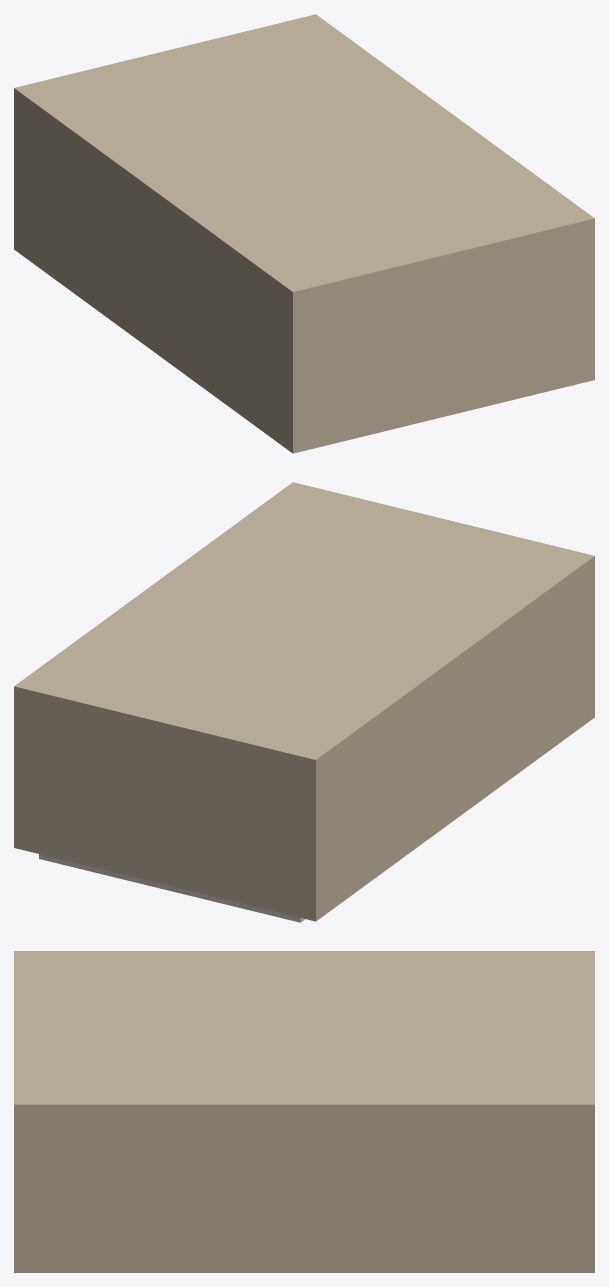
File: drawer_cabinet.glb
3 views of the same model, one above another, from view 1: azimuth 30°, elevation 25°; view 2: azimuth 150°, elevation 25°; view 3: azimuth 270°, elevation 25° (orthographic). The views are drawn at different scales.
Visible parts, largest first — view 1: case; view 2: case, drawer_0; view 3: case.
Part boxes in pixels (left/top/right/bottom): case: left=14, top=14, right=594, bottom=453; case: left=14, top=482, right=594, bottom=921; drawer_0: left=39, top=854, right=305, bottom=922; case: left=14, top=951, right=594, bottom=1272.
Bounding box in the file's own units: 0.9 × 0.512 × 1.44.
